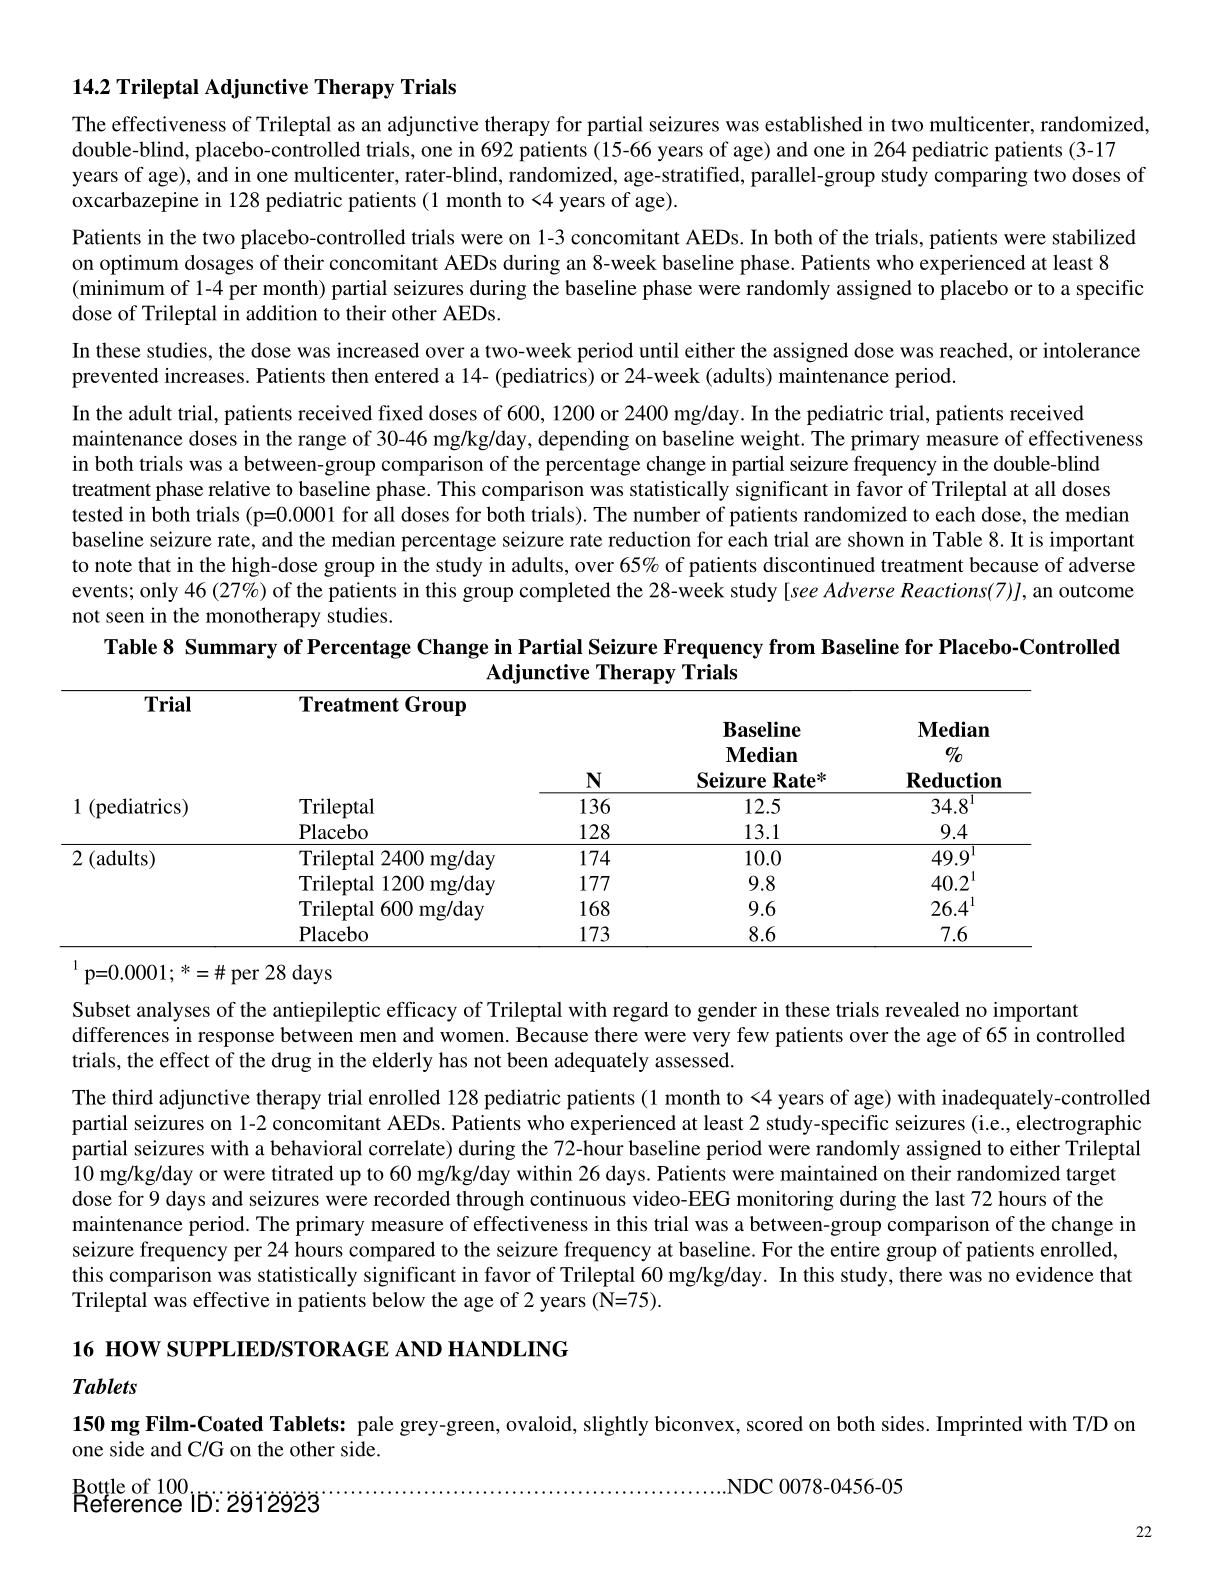partial_lined: (60, 689, 1032, 948)
